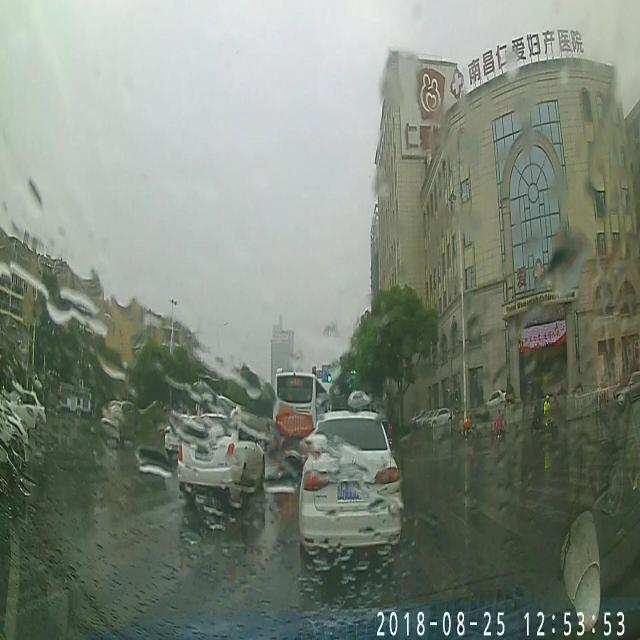car: (300, 408, 406, 548), (176, 410, 266, 500), (276, 368, 332, 464), (104, 400, 149, 446), (166, 410, 196, 460)
